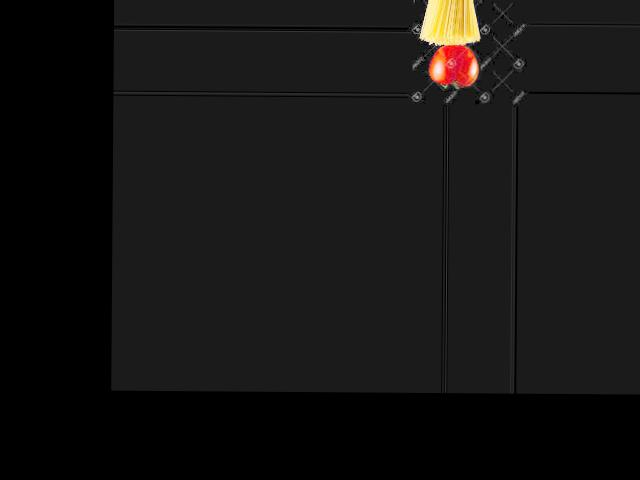tomato: (428, 44, 477, 86)
